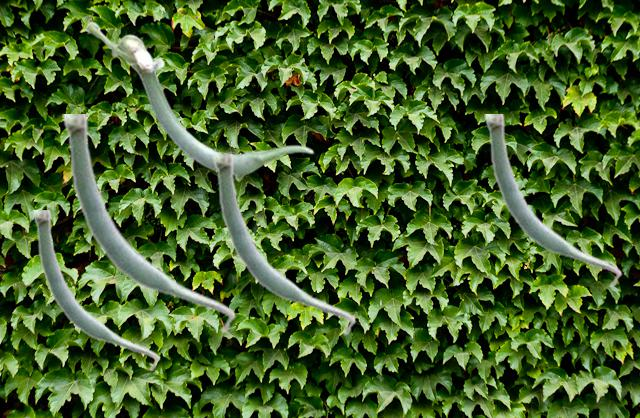french_bean: (62, 114, 235, 333), (85, 20, 313, 181), (212, 154, 355, 335), (484, 114, 621, 287), (32, 210, 159, 371)
